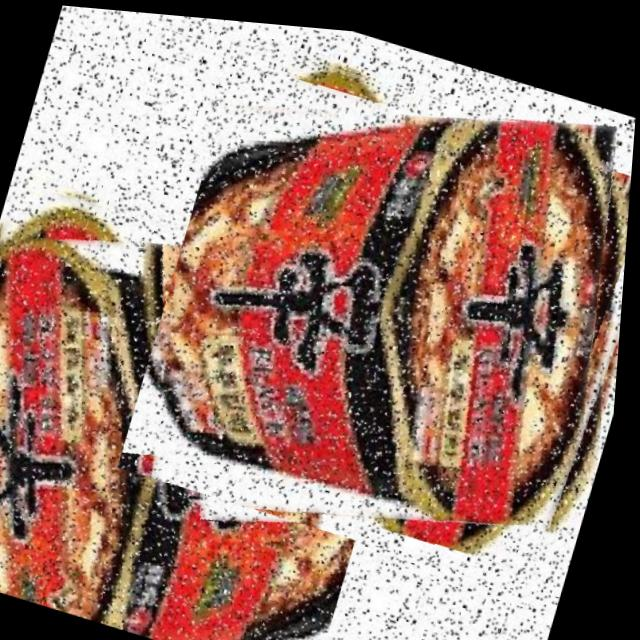Miscellaneous: (117, 22, 639, 592), (0, 160, 436, 640)
